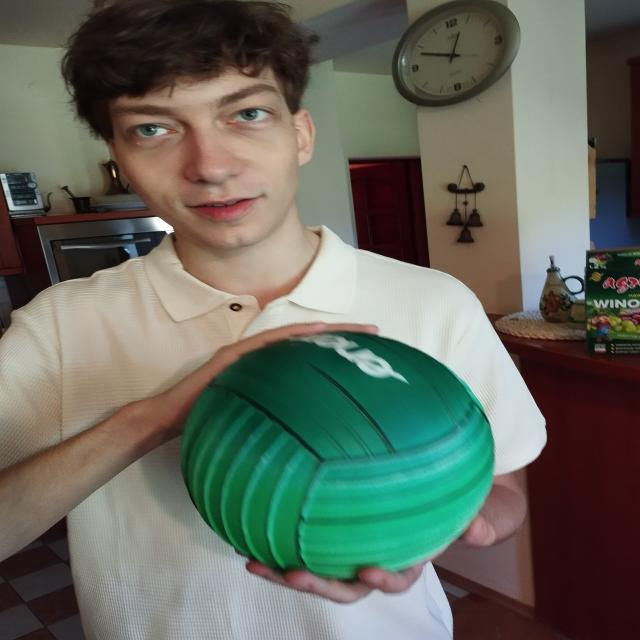zielona: (181, 330, 496, 578)
